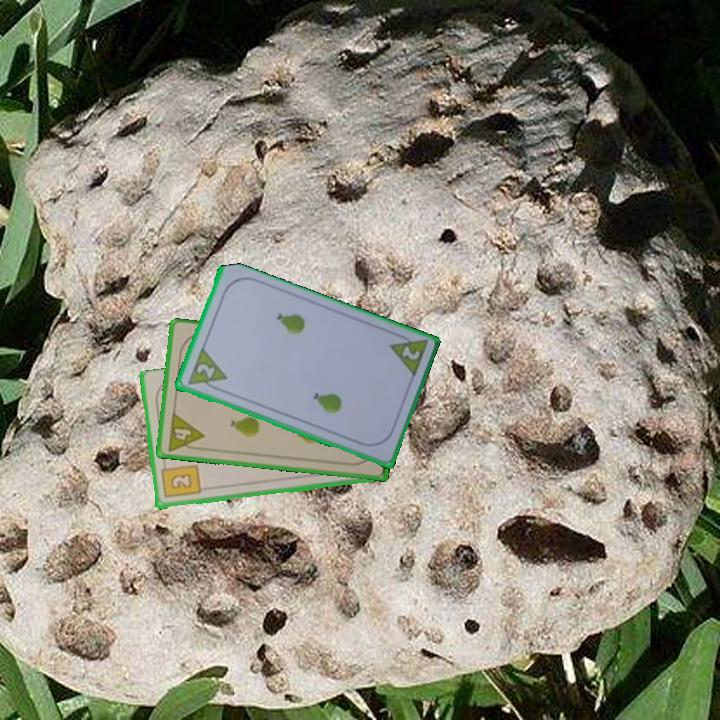2b: (158, 459, 203, 501)
2p: (385, 329, 431, 381), (192, 360, 217, 381)
4p: (164, 409, 207, 454)
